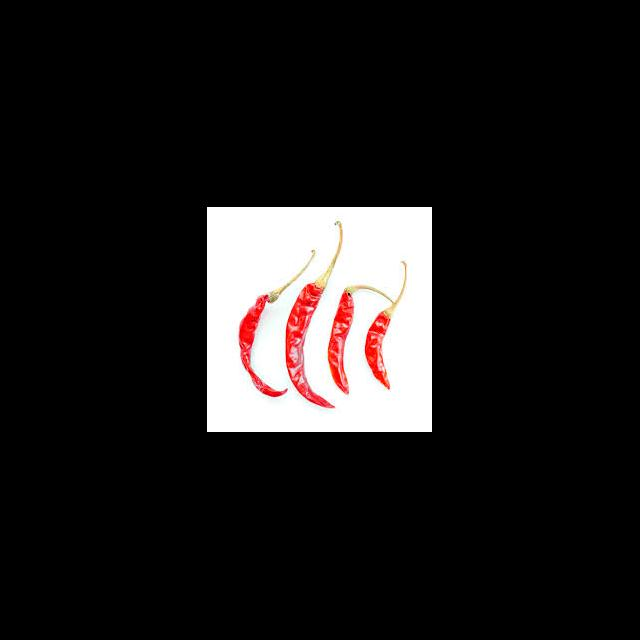chili_pepper: (364, 266, 409, 392), (238, 292, 288, 400), (288, 285, 327, 405), (326, 288, 354, 396)
